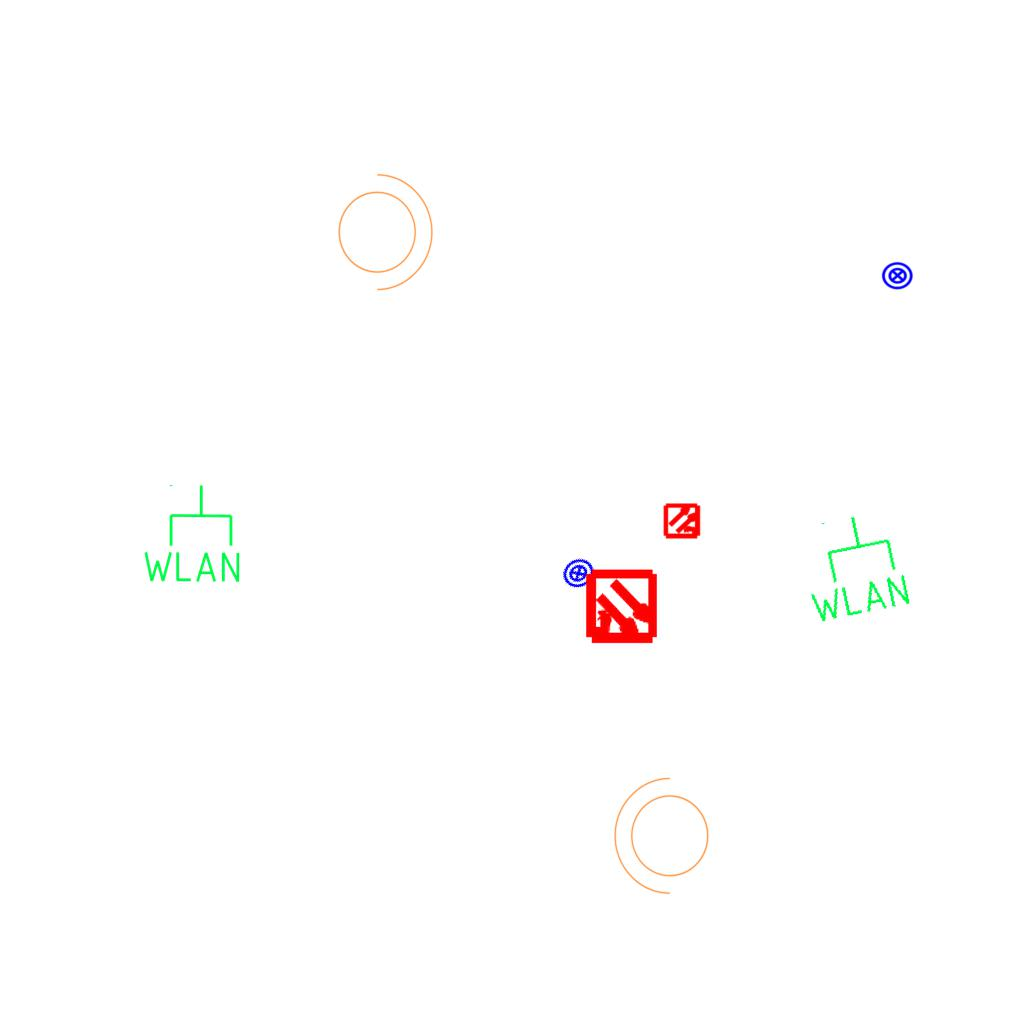OT_Multisensormelder_(Kombination_RMO_WMD): (565, 552, 678, 665), (655, 493, 711, 549)
Scheinwerfer_fuer_Alarmbeleuchtung: (609, 773, 721, 905), (326, 163, 438, 295)
Taster_beleuchtet: (555, 550, 602, 597), (881, 259, 914, 292)
WLAN: (790, 504, 916, 629), (139, 482, 244, 586)
